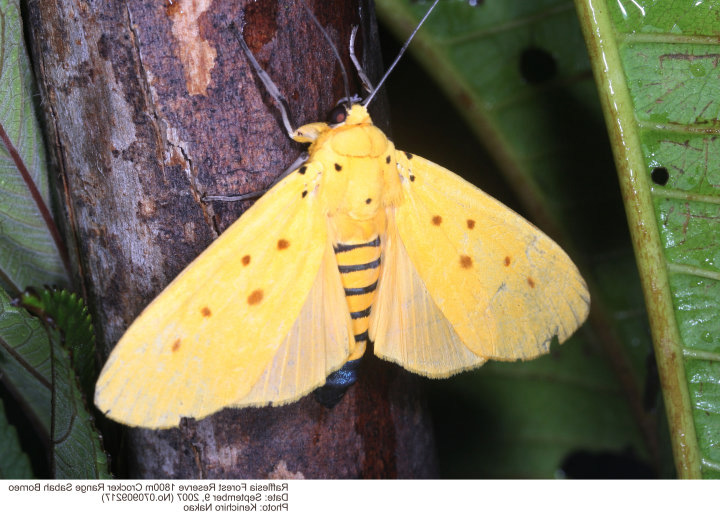Agape chloropyga: (93, 1, 600, 435)
moth: (91, 1, 598, 435)
